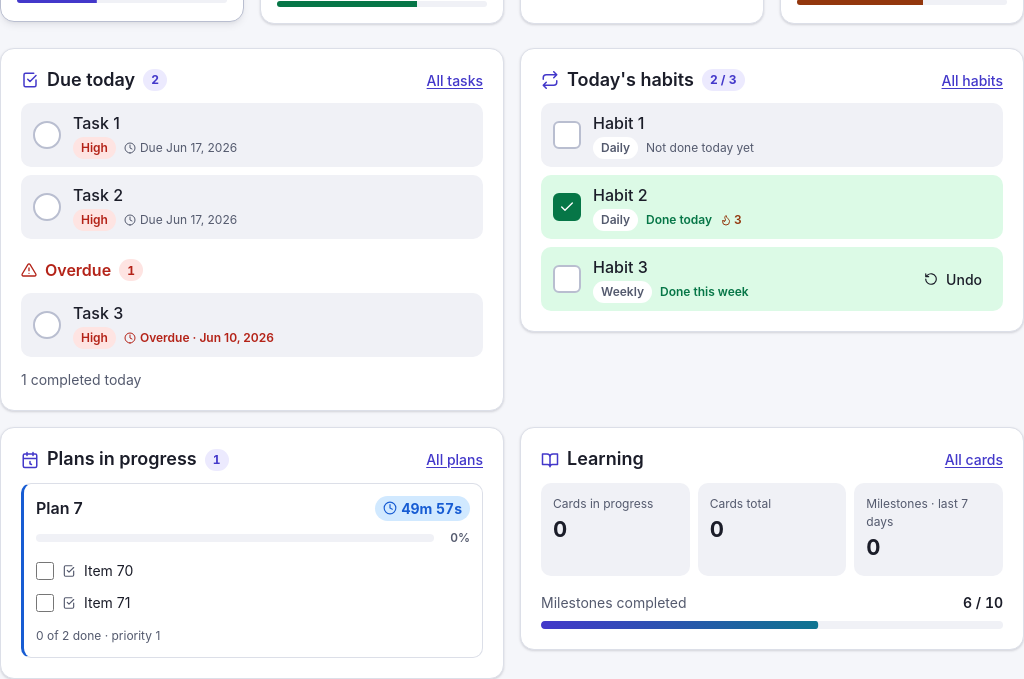
Test: DashboardPageComponent › shows in-progress plans with rest time and progress; toggling an item updates progress
(page scrolled)
Expected: the heading "Plan 7" is shown, [36,498,83,518]
Expected: the text with class "count" shows "0 of 2 done", [36,628,160,643]
Click the checkbox labelled "Item 70": (45, 571) [36,562,54,580]
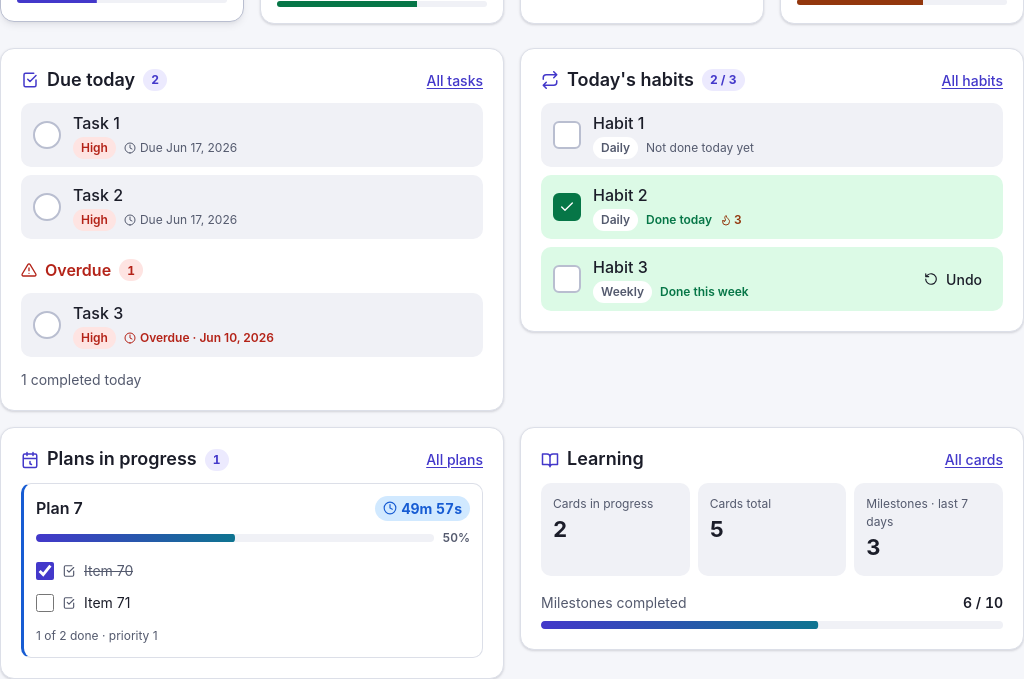
Now the text with class "count" shows "1 of 2 done", box [36,628,158,643]
